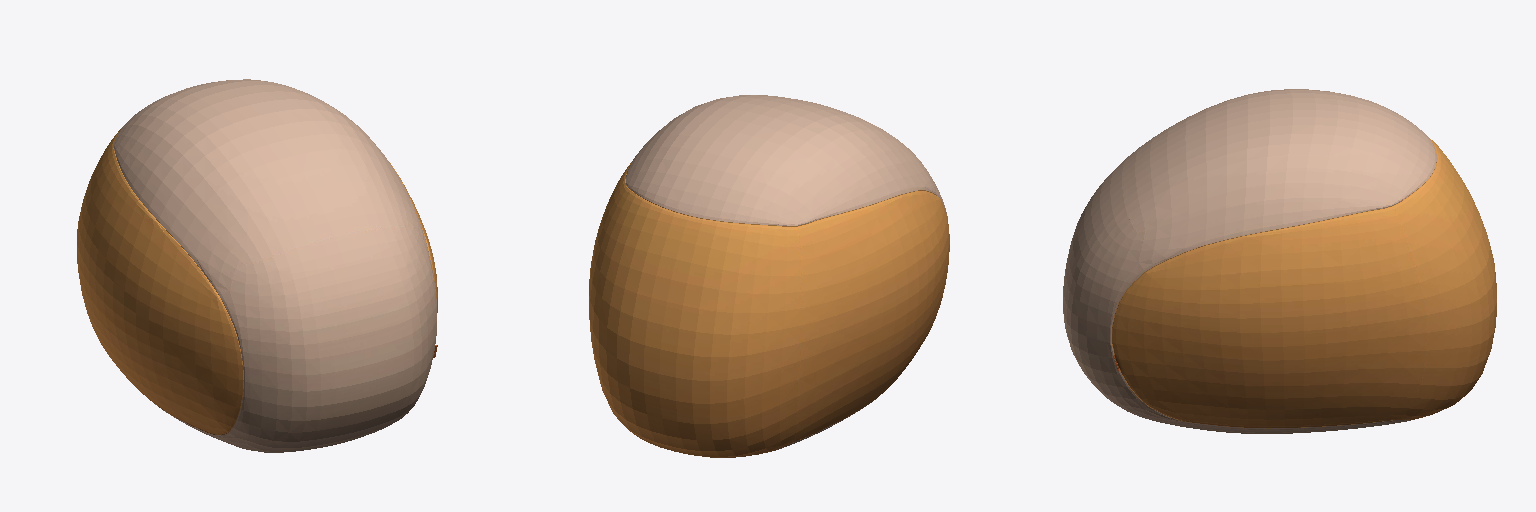
3 views of the same model, side by side, from view 1: azimuth 30°, elevation 25°; view 2: azimuth 150°, elevation 25°; view 3: azimuth 270°, elevation 25° (orthographic).
Visible parts, largest first — view 1: sm_sofa02_highpoly; view 2: sm_sofa02_highpoly; view 3: sm_sofa02_highpoly.
Boxes of the visible parts, x1,y1,x2,y2 form: sm_sofa02_highpoly: [77, 79, 437, 452]; sm_sofa02_highpoly: [589, 95, 949, 457]; sm_sofa02_highpoly: [1063, 89, 1496, 433].
Bounding box in the file's own units: 55.95 × 55.13 × 74.28.
Materials: 1 (1 with a texture image).